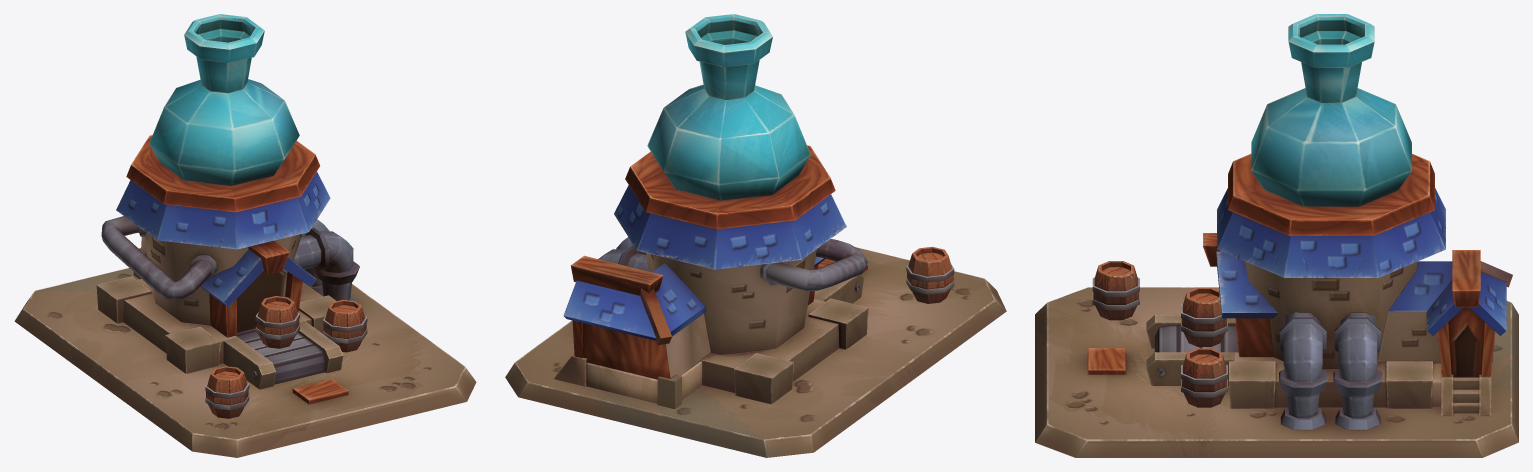
File: Ether_Mine.fbx
3 renders of one model, left to right at view 1: azimuth 30°, elevation 25°; view 2: azimuth 150°, elevation 25°; view 3: azimuth 270°, elevation 25°, orthographic. The views are drawn at different scales.
Visible parts, largest first — view 1: Ether_Mine; view 2: Ether_Mine; view 3: Ether_Mine.
Boxes of the visible parts, x1,y1,x2,y2 form: Ether_Mine: (14,14,476,457); Ether_Mine: (505,14,1006,457); Ether_Mine: (1035,14,1518,457).
Size of the model in its own units: 7.98 by 8.19 by 10.28.
